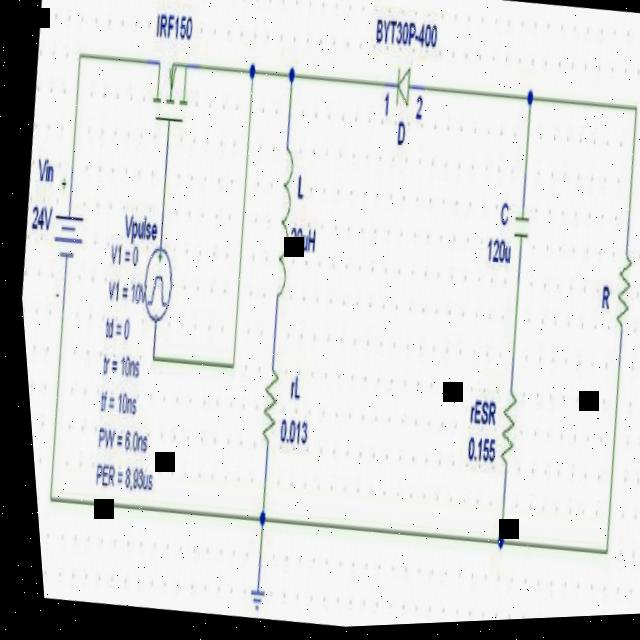capacitor: (500, 192, 542, 278)
diode: (379, 66, 419, 124)
ground: (226, 567, 267, 622)
inductor: (247, 124, 309, 314)
mosfet: (131, 37, 206, 149)
node: (276, 58, 305, 102), (238, 56, 265, 101), (518, 77, 538, 127), (484, 523, 502, 564), (243, 507, 264, 542)
resistor: (233, 338, 289, 465), (593, 230, 640, 360), (481, 378, 528, 484)
source: (37, 185, 96, 291)
